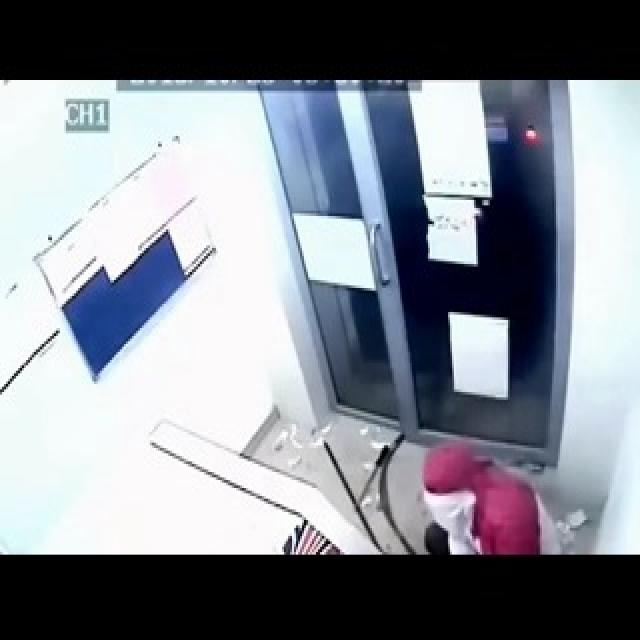thief: (397, 428, 571, 556)
